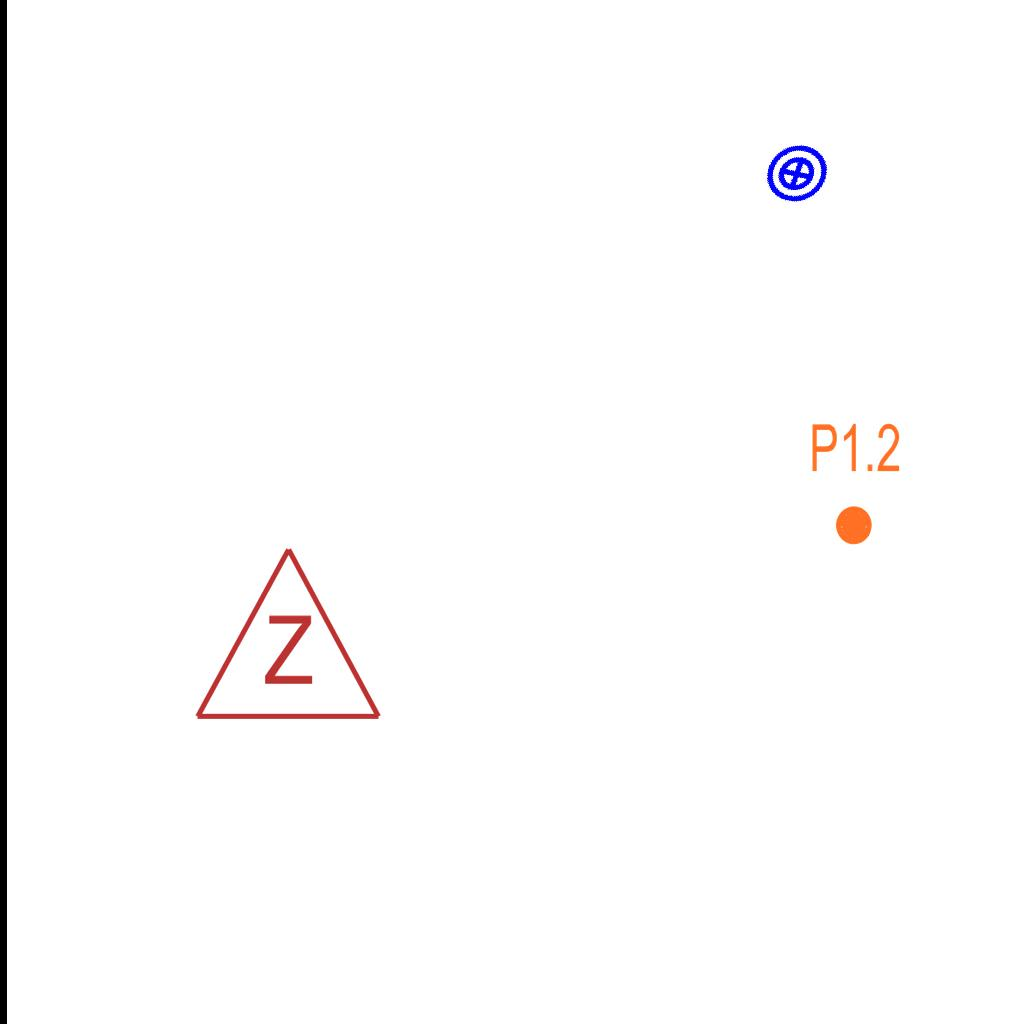Downlight_LED_Einbauleuchten_Flur: (809, 420, 902, 548)
Taster_beleuchtet: (752, 129, 842, 219)
Zimmersignalleuchte: (188, 534, 384, 734)
